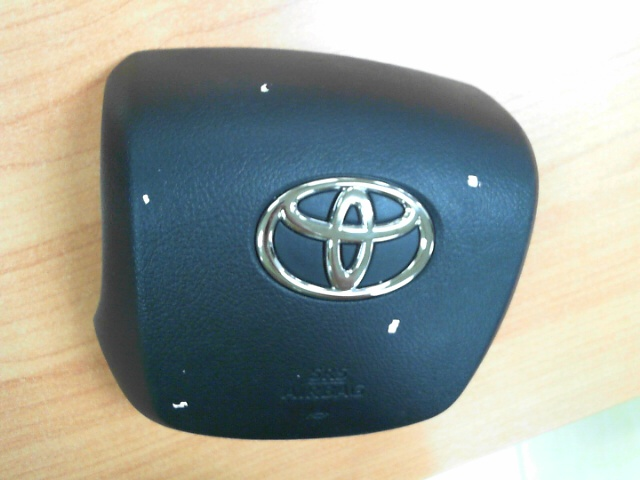Airbag: (466, 175, 481, 189), (387, 319, 400, 334), (171, 401, 189, 409), (259, 83, 270, 93), (142, 193, 151, 205)
